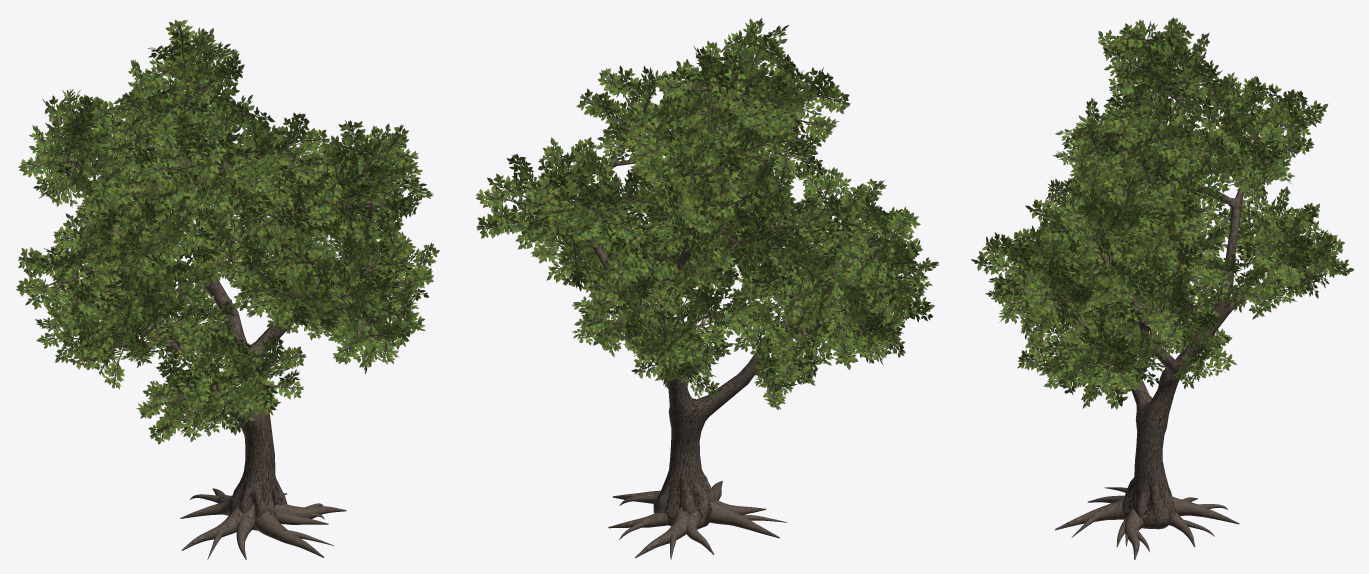
File: tree-v2.glb
3 renders of one model, left to right at view 1: azimuth 30°, elevation 25°; view 2: azimuth 150°, elevation 25°; view 3: azimuth 270°, elevation 25°, orthographic. The views are drawn at different scales.
Visible parts, largest first — view 1: crown merged_normal leaves_0, br_low_trunk_0, btt_natural_roots; view 2: crown merged_normal leaves_0, br_low_trunk_0, btt_natural_roots; view 3: crown merged_normal leaves_0, br_low_trunk_0, btt_natural_roots.
Part boxes in pixels (left/top/right/bottom): crown merged_normal leaves_0: left=16, top=19, right=439, bottom=444; br_low_trunk_0: left=45, top=56, right=403, bottom=530; btt_natural_roots: left=180, top=488, right=346, bottom=559; crown merged_normal leaves_0: left=475, top=18, right=939, bottom=409; br_low_trunk_0: left=508, top=53, right=908, bottom=529; btt_natural_roots: left=608, top=481, right=787, bottom=559; crown merged_normal leaves_0: left=971, top=17, right=1354, bottom=409; br_low_trunk_0: left=1004, top=49, right=1314, bottom=529; btt_natural_roots: left=1055, top=487, right=1239, bottom=559.
Bounding box in the file's own units: 14.35 × 16.05 × 11.72.
Materials: 2 (2 with a texture image).
